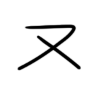nu: (14, 22, 84, 73)
